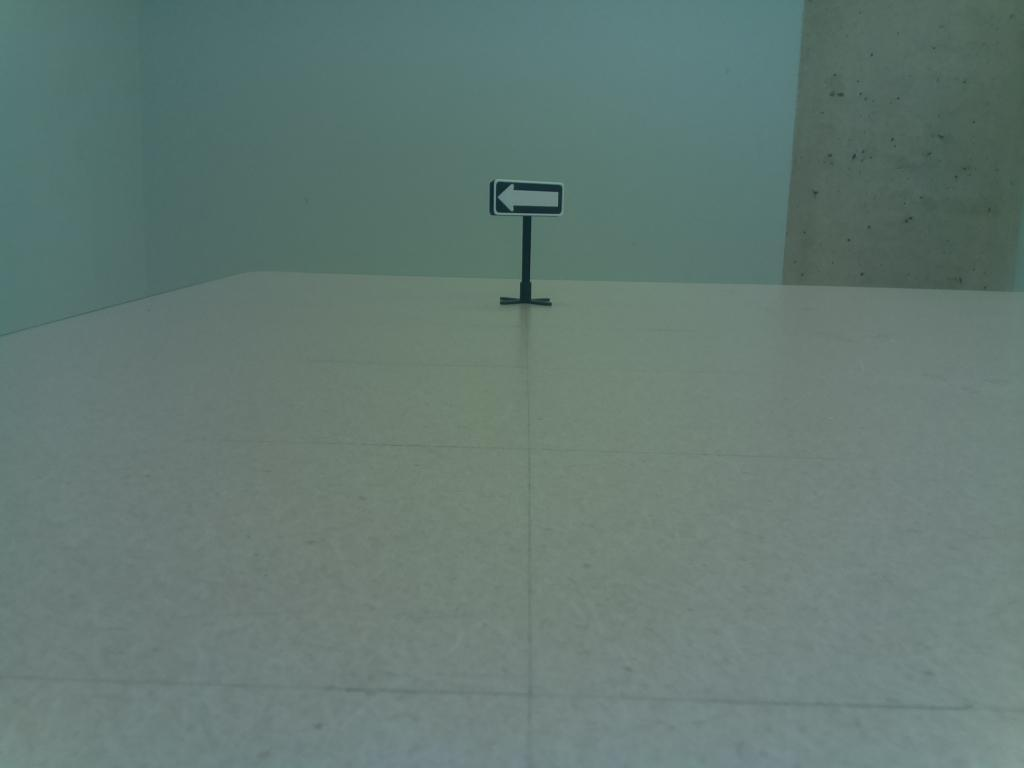sign_oneway_left: (483, 173, 569, 223)
